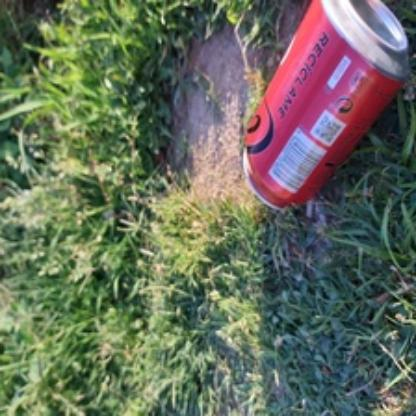Can: (244, 0, 408, 212)
